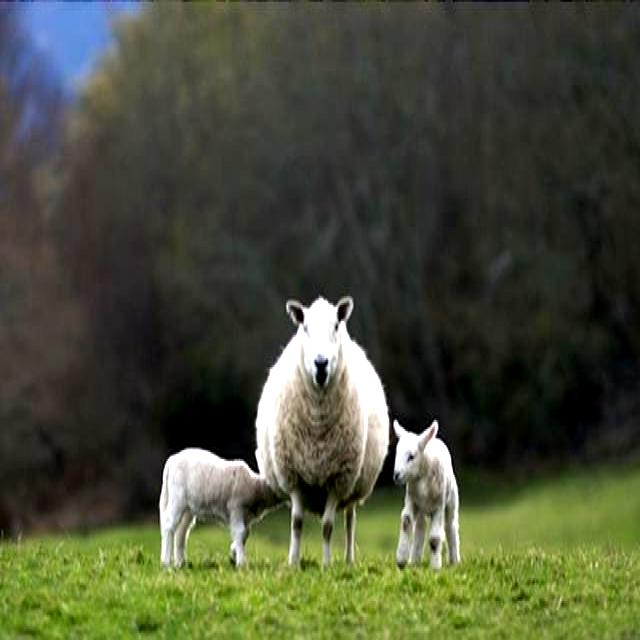sheep: (255, 294, 386, 570)
